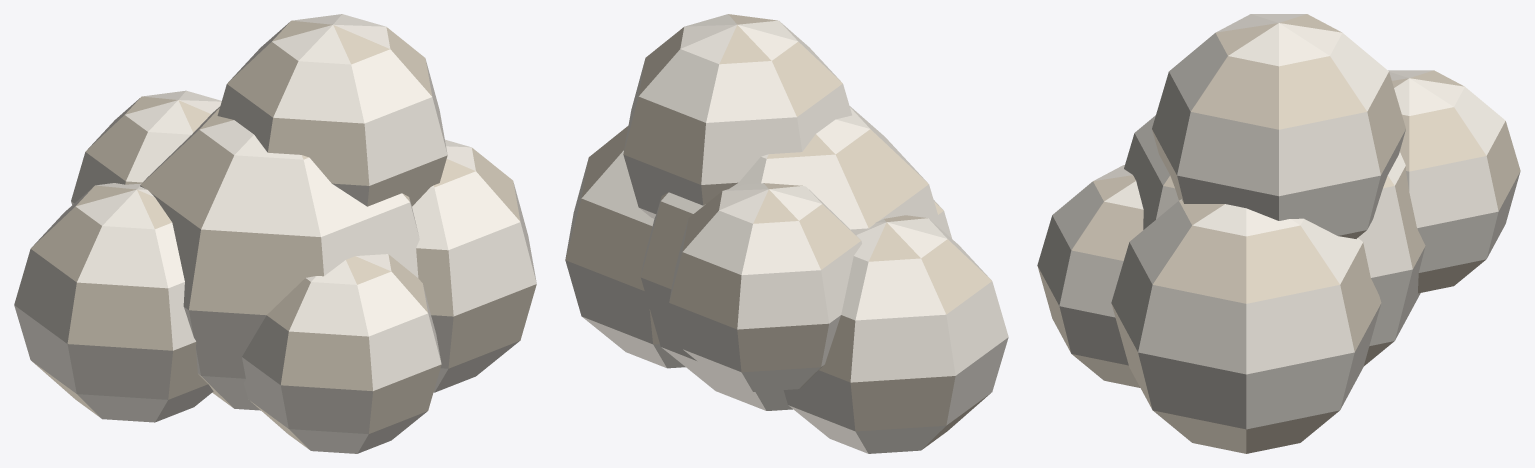
The model's file is wool.glb.
The picture shows the model from 3 angles, left to right: view 1: azimuth 30°, elevation 25°; view 2: azimuth 150°, elevation 25°; view 3: azimuth 270°, elevation 25°; orthographic projection. The views are drawn at different scales.
Parts seen in each view (by area): view 1: wool; view 2: wool; view 3: wool.
Part boxes in pixels (left/top/right/bottom): wool: left=14, top=14, right=536, bottom=453; wool: left=565, top=14, right=1008, bottom=453; wool: left=1037, top=14, right=1520, bottom=453.
Size of the model in its own units: 0.3371 by 0.26 by 0.2965.
Materials: 1 (1 with a texture image).
